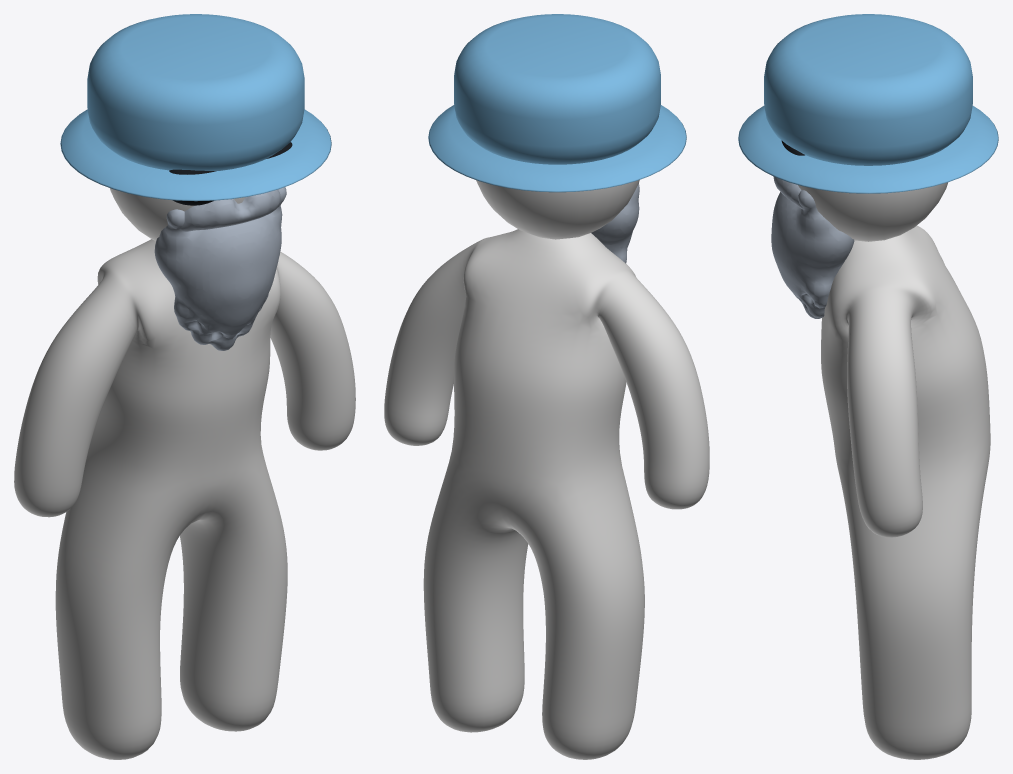
The model's file is gp_character.glb.
3 views of the same model, side by side, from view 1: azimuth 30°, elevation 25°; view 2: azimuth 150°, elevation 25°; view 3: azimuth 270°, elevation 25° (orthographic). The views are drawn at different scales.
Parts seen in each view (by area): view 1: GP_Body, GP_HatCrown, GP_Beard_M, GP_HatBrim, GP_Mustache_M, GP_Head; view 2: GP_Body, GP_HatCrown, GP_HatBrim, GP_Head, GP_Beard_M; view 3: GP_Body, GP_HatCrown, GP_HatBrim, GP_Beard_M, GP_Head.
Boxes of the visible parts, x1,y1,x2,y2 form: GP_Body: (14, 239, 355, 759); GP_HatCrown: (87, 14, 304, 170); GP_Beard_M: (154, 187, 286, 350); GP_HatBrim: (60, 109, 331, 201); GP_Mustache_M: (179, 189, 280, 231); GP_Head: (110, 188, 244, 240); GP_Body: (384, 229, 709, 759); GP_HatCrown: (454, 14, 660, 164); GP_HatBrim: (428, 105, 686, 192); GP_Head: (476, 180, 639, 239); GP_Beard_M: (591, 183, 639, 263); GP_Body: (821, 225, 990, 759); GP_HatCrown: (764, 14, 972, 165); GP_HatBrim: (738, 106, 998, 193); GP_Beard_M: (771, 190, 854, 318); GP_Head: (798, 182, 947, 241).
Size of the model in its own units: 0.3934 by 0.8044 by 0.2796.
